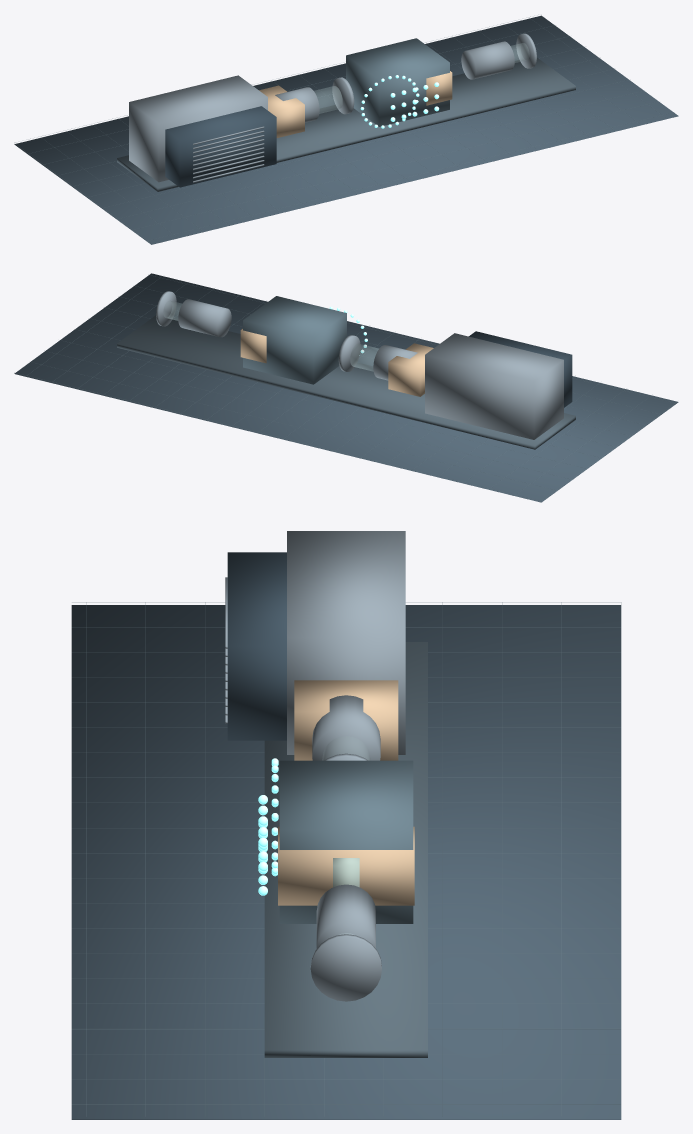
The model's file is laser.glb.
3 views of the same model, one above another, from view 1: azimuth 30°, elevation 25°; view 2: azimuth 150°, elevation 25°; view 3: azimuth 270°, elevation 25° (orthographic). The views are drawn at different scales.
Parts seen in each view (by area): view 1: laser_node_0002, laser_node_0004, laser_node_0005, laser_node_0021, laser_node_0006, laser_node_0024, laser_node_0017, laser_node_0018, laser_node_0022, laser_node_0020, laser_node_0026, laser_node_0019 (+1 smaller); view 2: laser_node_0002, laser_node_0005, laser_node_0004, laser_node_0021, laser_node_0017, laser_node_0024, laser_node_0006, laser_node_0022, laser_node_0018, laser_node_0020, laser_node_0026, laser_node_0019 (+1 smaller); view 3: laser_node_0002, laser_node_0004, laser_node_0005, laser_node_0021, laser_node_0003_grid, laser_node_0006, laser_node_0022, laser_node_0017, laser_node_0026, laser_node_0018, laser_node_0024.
Part boxes in pixels (x1,y1,x2,y2): laser_node_0002: [14, 15, 678, 244]; laser_node_0004: [117, 57, 575, 191]; laser_node_0005: [129, 75, 267, 182]; laser_node_0021: [346, 38, 449, 126]; laser_node_0006: [165, 106, 276, 187]; laser_node_0024: [461, 41, 514, 79]; laser_node_0017: [259, 85, 304, 137]; laser_node_0018: [275, 87, 319, 122]; laser_node_0022: [426, 71, 452, 105]; laser_node_0020: [332, 77, 354, 114]; laser_node_0026: [516, 33, 536, 68]; laser_node_0019: [314, 86, 342, 113]; laser_node_0002: [14, 273, 678, 502]; laser_node_0005: [425, 333, 563, 439]; laser_node_0004: [117, 315, 575, 449]; laser_node_0021: [243, 296, 346, 384]; laser_node_0017: [388, 343, 433, 396]; laser_node_0024: [178, 299, 231, 337]; laser_node_0006: [469, 331, 572, 407]; laser_node_0022: [240, 329, 266, 363]; laser_node_0018: [373, 345, 417, 380]; laser_node_0020: [338, 335, 360, 371]; laser_node_0026: [156, 291, 176, 326]; laser_node_0019: [350, 344, 378, 371]; laser_node_0002: [71, 605, 621, 1119]; laser_node_0004: [264, 642, 427, 1057]; laser_node_0005: [287, 531, 405, 754]; laser_node_0021: [279, 760, 413, 923]; laser_node_0003_grid: [72, 602, 621, 1116]; laser_node_0006: [227, 552, 286, 740]; laser_node_0022: [278, 826, 414, 905]; laser_node_0017: [294, 680, 398, 760]; laser_node_0026: [310, 934, 381, 1001]; laser_node_0018: [312, 695, 380, 760]; laser_node_0024: [316, 884, 375, 948].
Size of the model in its own units: 82.01 by 9.92 by 37.01.
